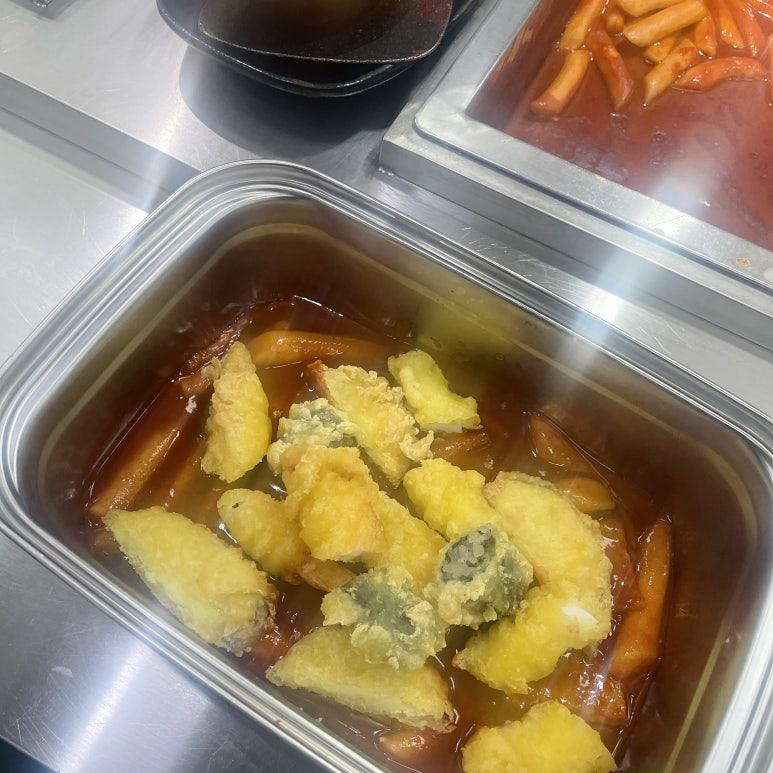Lunch Box: (0, 162, 772, 772)
